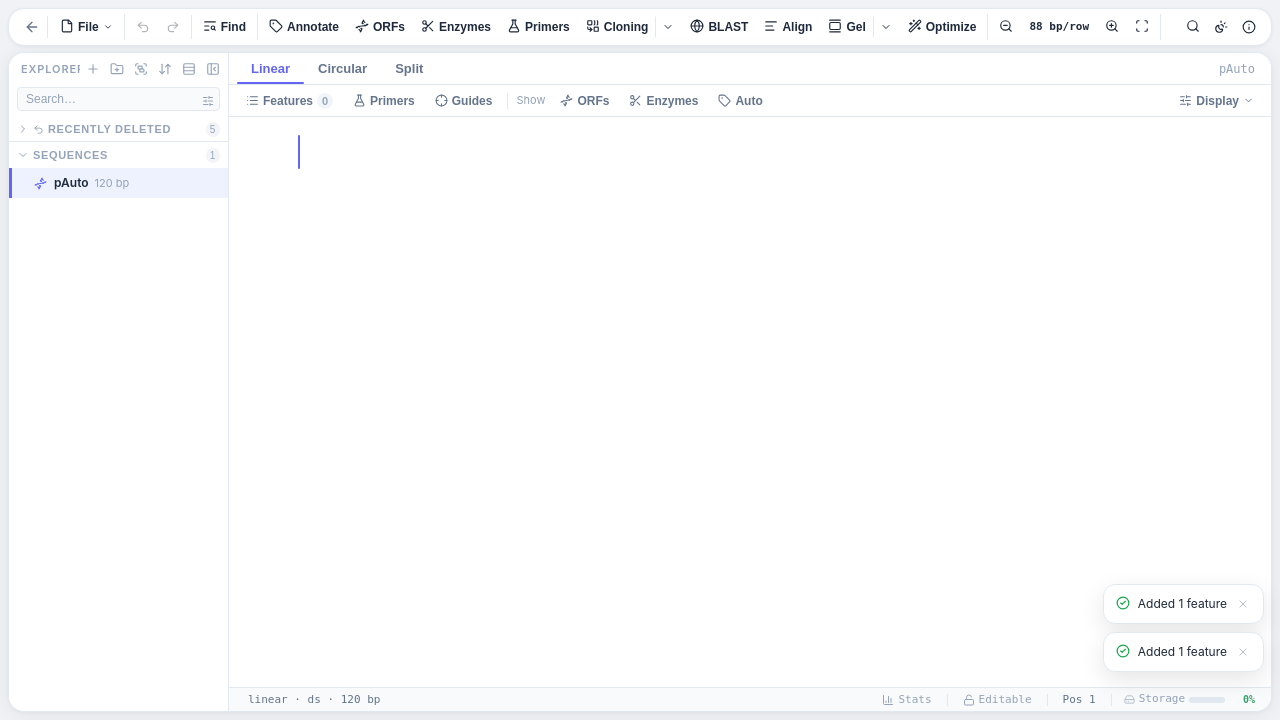
Test case: ORFs in the panel bar › offers to add the ORFs it is displaying
The width and height of the screenshot is (1280, 720).
Click the button "ORFs" next to "Show" at (585, 100), box [551, 90, 618, 112]
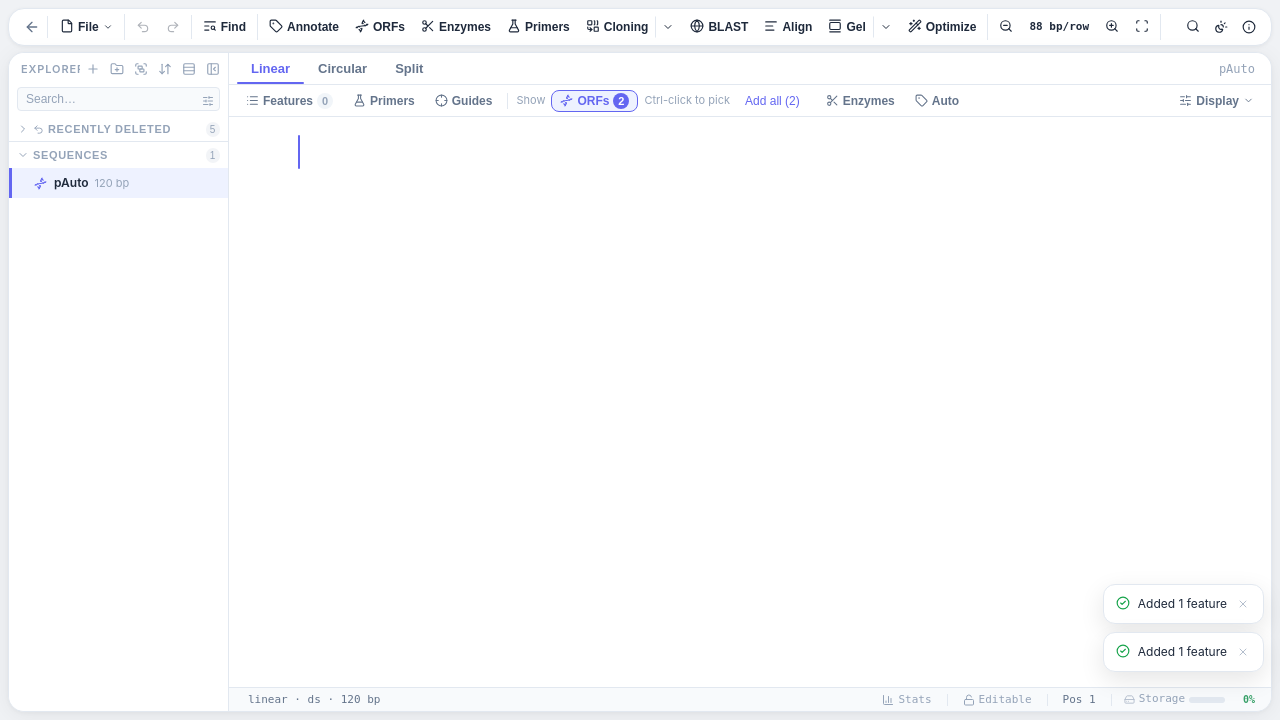
Check: the button "Add all (2)" is shown, box [736, 90, 809, 112]
